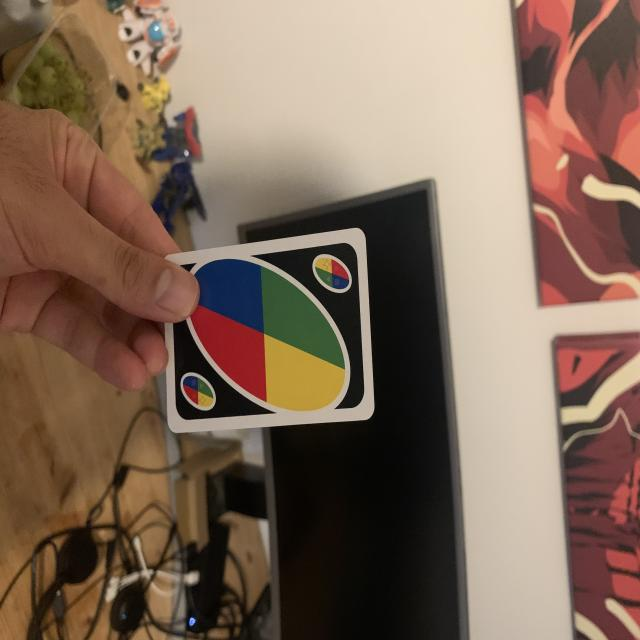lcolor-40: (308, 246, 354, 298)
